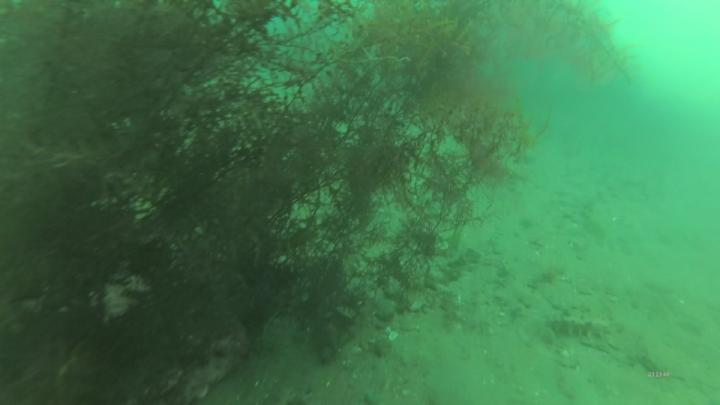holothurian: (550, 315, 614, 344)
waterweeds: (1, 1, 536, 364)
